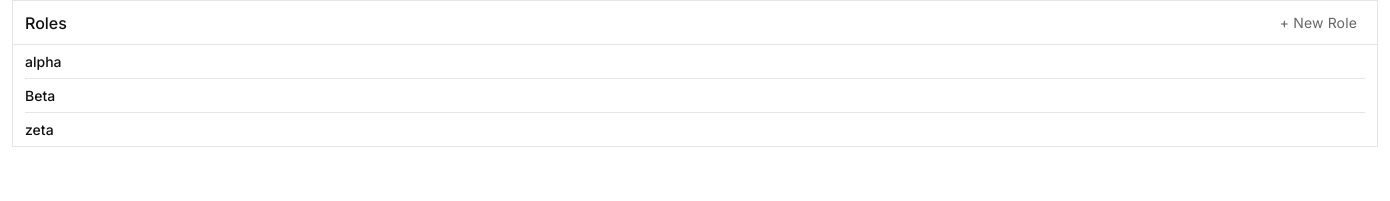
Scenario: RolesPanel › does not blank the list while a post-create refresh is in flight
Expected: the text "alpha" is shown, [25,53,62,70]
Click the button "+ New Role". click: (1318, 22)
box: [1272,9,1365,36]
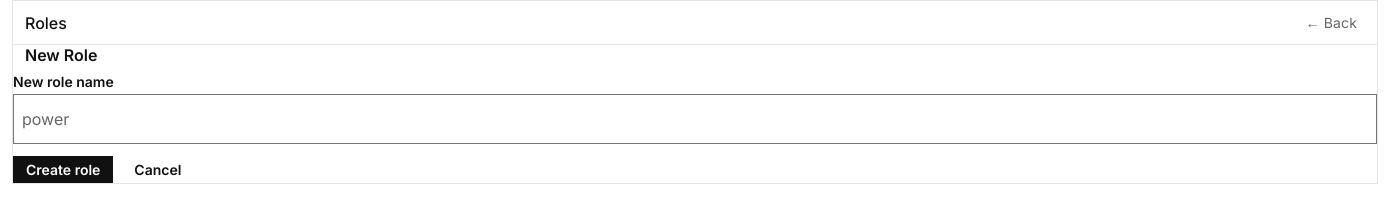
Type "delta" into the field labelled "New role name". click: (695, 119)
box: [13,94,1377,144]
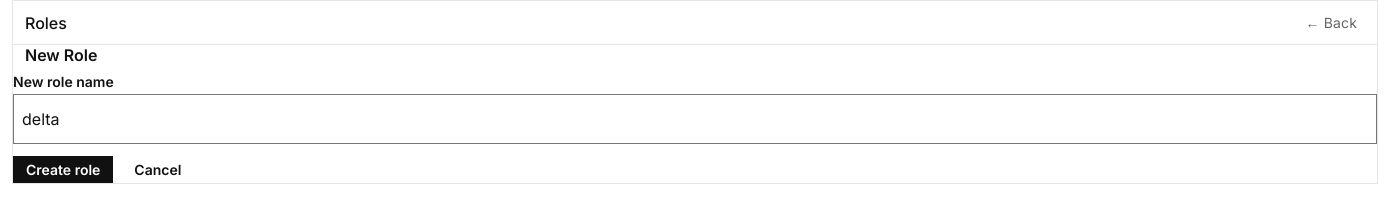
Click the button "Create role". click: (63, 170)
box: [13,156,113,183]
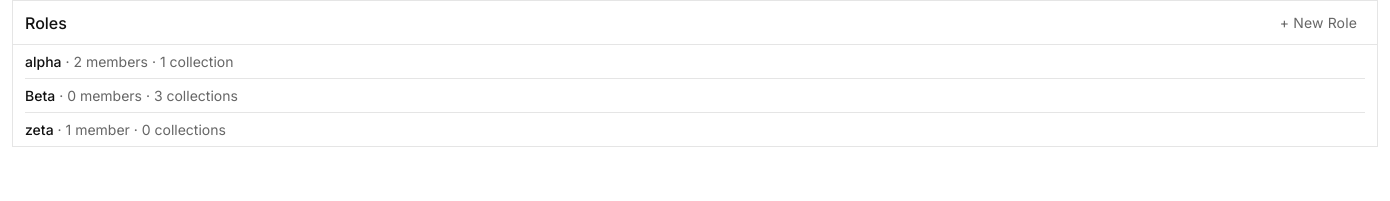
Expected: the text "alpha" is shown, [25,53,62,70]
